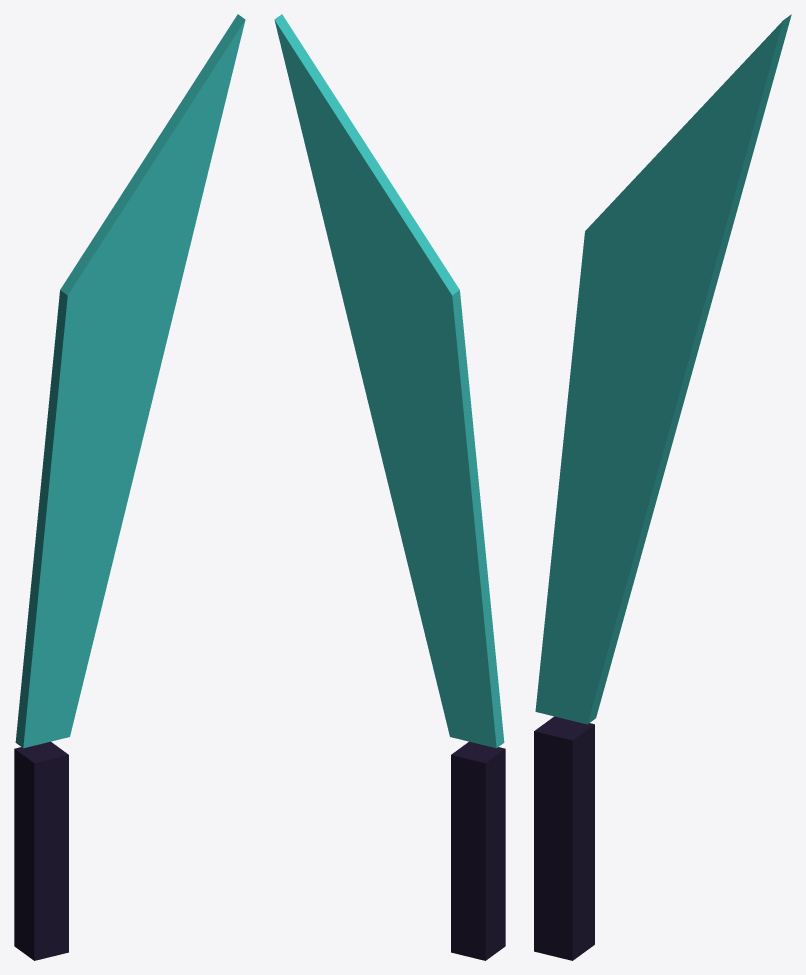
Rendered from SM_Prop_TwinScimitar_LQ.glb.
3 renders of one model, left to right at view 1: azimuth 30°, elevation 25°; view 2: azimuth 150°, elevation 25°; view 3: azimuth 330°, elevation 25°, orthographic. The views are drawn at different scales.
Visible parts, largest first — view 1: SM_Prop_TwinScimitar_LQ; view 2: SM_Prop_TwinScimitar_LQ; view 3: SM_Prop_TwinScimitar_LQ.
Part boxes in pixels (x1,y1,x2,y2): SM_Prop_TwinScimitar_LQ: [14, 14, 245, 960]; SM_Prop_TwinScimitar_LQ: [274, 14, 505, 960]; SM_Prop_TwinScimitar_LQ: [534, 14, 791, 960].
Bounding box in the file's own units: 0.2 × 0.76 × 0.0311.
Materials: 1 (1 with a texture image).
